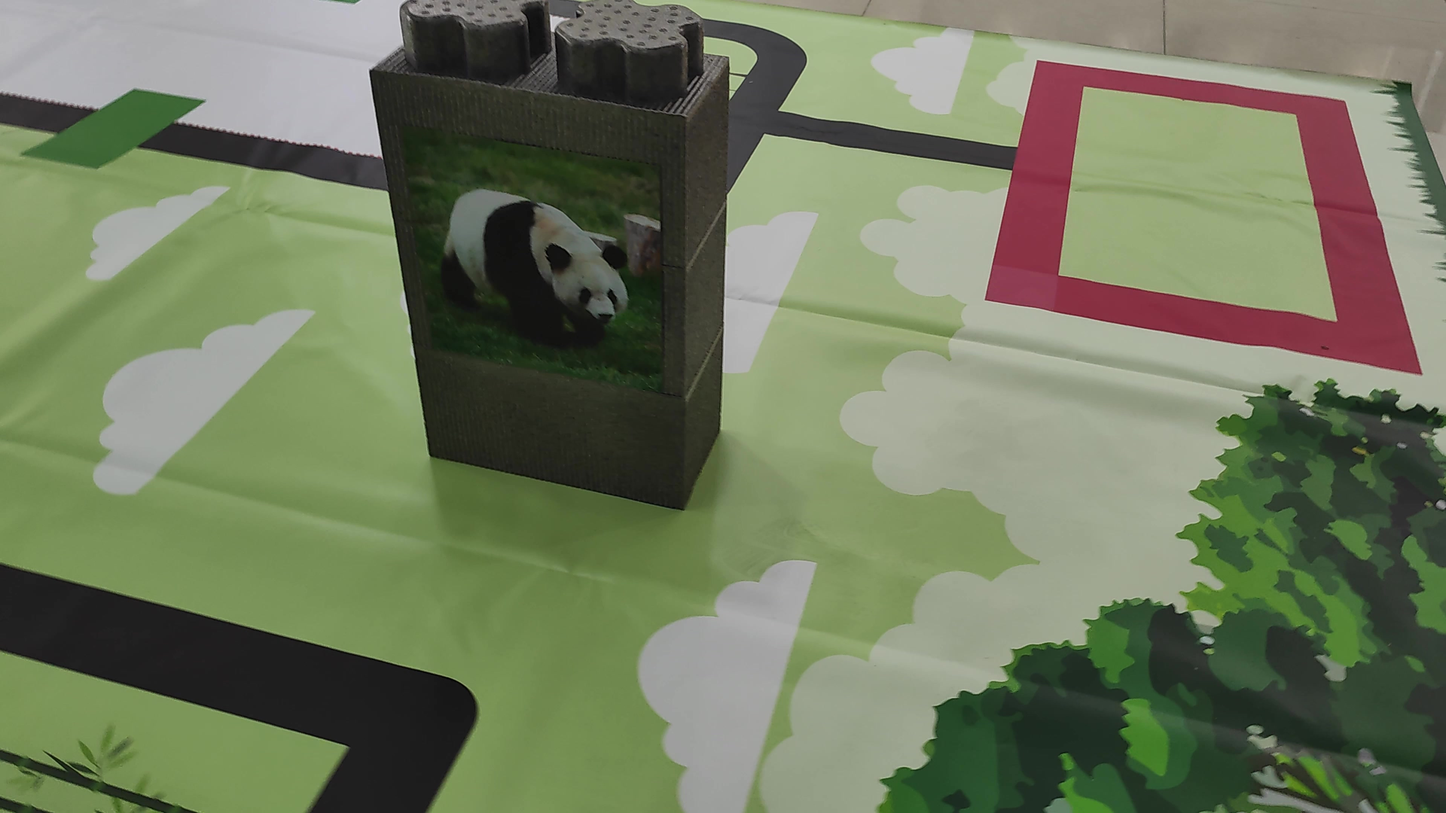panda: (420, 166, 641, 365)
